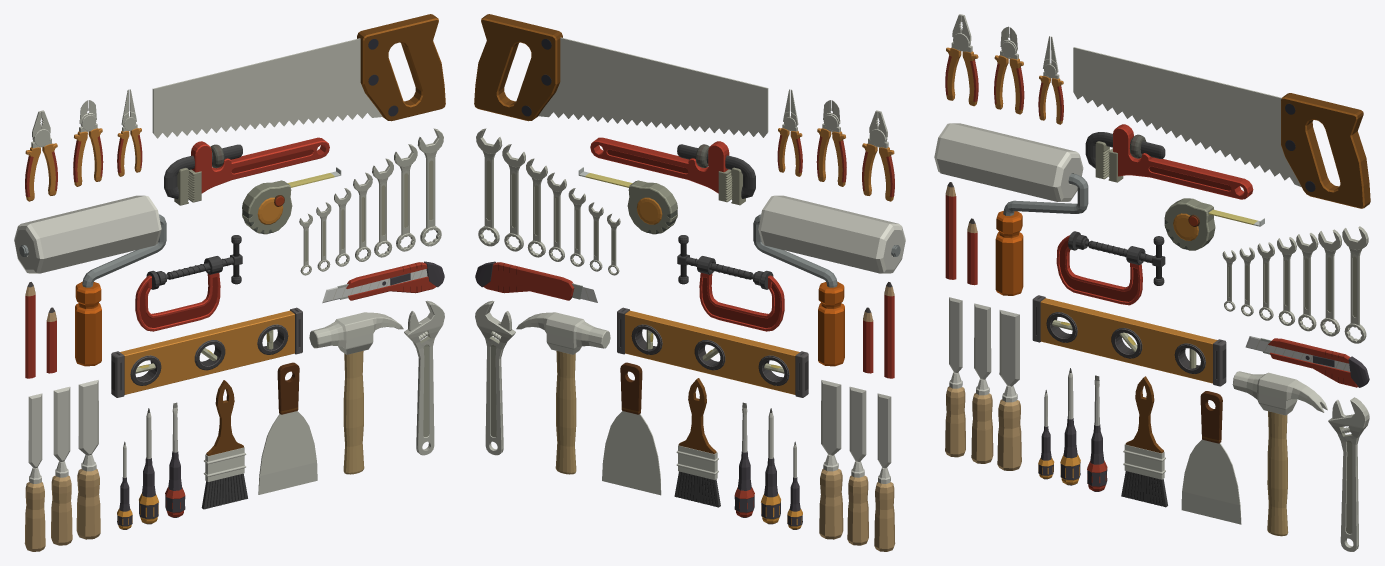
File: Construction Tools.fbx
3 renders of one model, left to right at view 1: azimuth 30°, elevation 25°; view 2: azimuth 150°, elevation 25°; view 3: azimuth 330°, elevation 25°, orthographic.
Visible parts, largest first — view 1: saw, paint roller, building level, spanner, construction spatula, hammer, clamp, brush, file3, adjustable wrench, file2, stationery knife (+15 smaller); view 2: saw, paint roller, building level, spanner, construction spatula, hammer, clamp, brush, file3, adjustable wrench, file2, stationery knife (+15 smaller); view 3: saw, paint roller, building level, spanner, hammer, construction spatula, clamp, brush, file3, adjustable wrench, file2, stationery knife (+15 smaller).
Boxes of the visible parts, x1,y1,x2,y2 form: saw: [152, 14, 445, 138]; paint roller: [14, 195, 166, 366]; building level: [111, 307, 302, 397]; spanner: [164, 137, 329, 205]; construction spatula: [258, 362, 317, 494]; hammer: [309, 312, 403, 474]; clamp: [135, 235, 242, 331]; brush: [201, 380, 247, 509]; file3: [76, 380, 100, 539]; adjustable wrench: [404, 300, 444, 455]; file2: [51, 386, 72, 545]; stationery knife: [322, 261, 444, 303]; saw: [474, 14, 768, 137]; paint roller: [753, 195, 905, 366]; building level: [617, 307, 808, 397]; spanner: [590, 137, 755, 205]; construction spatula: [602, 362, 661, 495]; hammer: [516, 312, 610, 474]; clamp: [677, 235, 784, 331]; brush: [674, 378, 720, 507]; file3: [819, 380, 843, 539]; adjustable wrench: [475, 300, 515, 455]; file2: [847, 386, 868, 545]; stationery knife: [475, 261, 597, 302]; saw: [1073, 47, 1370, 208]; paint roller: [934, 123, 1088, 295]; building level: [1032, 295, 1226, 386]; spanner: [1085, 124, 1253, 199]; hammer: [1232, 371, 1327, 536]; construction spatula: [1181, 391, 1241, 524]; clamp: [1056, 231, 1165, 305]; brush: [1121, 376, 1167, 507]; file3: [997, 310, 1021, 470]; adjustable wrench: [1328, 397, 1369, 551]; file2: [971, 303, 993, 463]; stationery knife: [1245, 336, 1369, 387].
Size of the model in its own units: 1687 by 1672 by 191.
